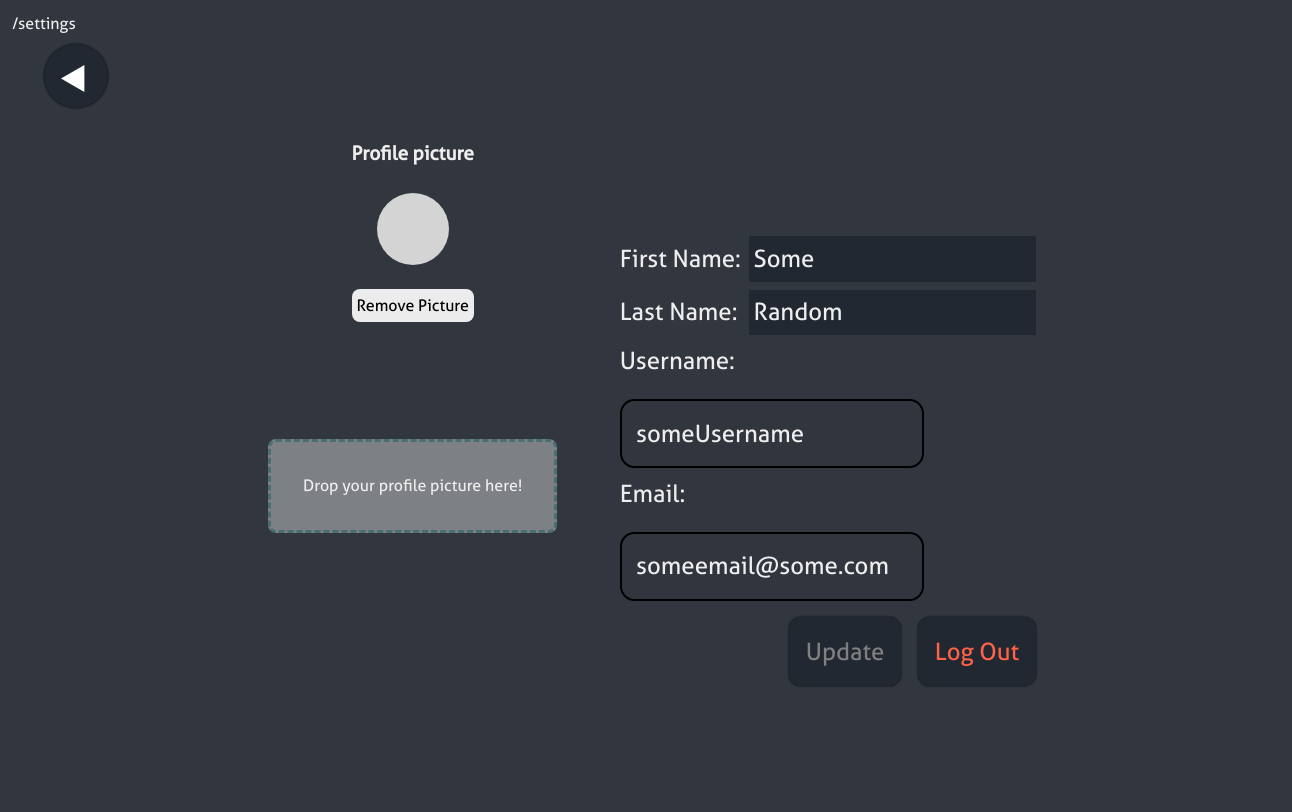
Test: <Settings> › validation › validates email
Click the field named "Email input" at (772, 566), box 620,532 -> 924,601
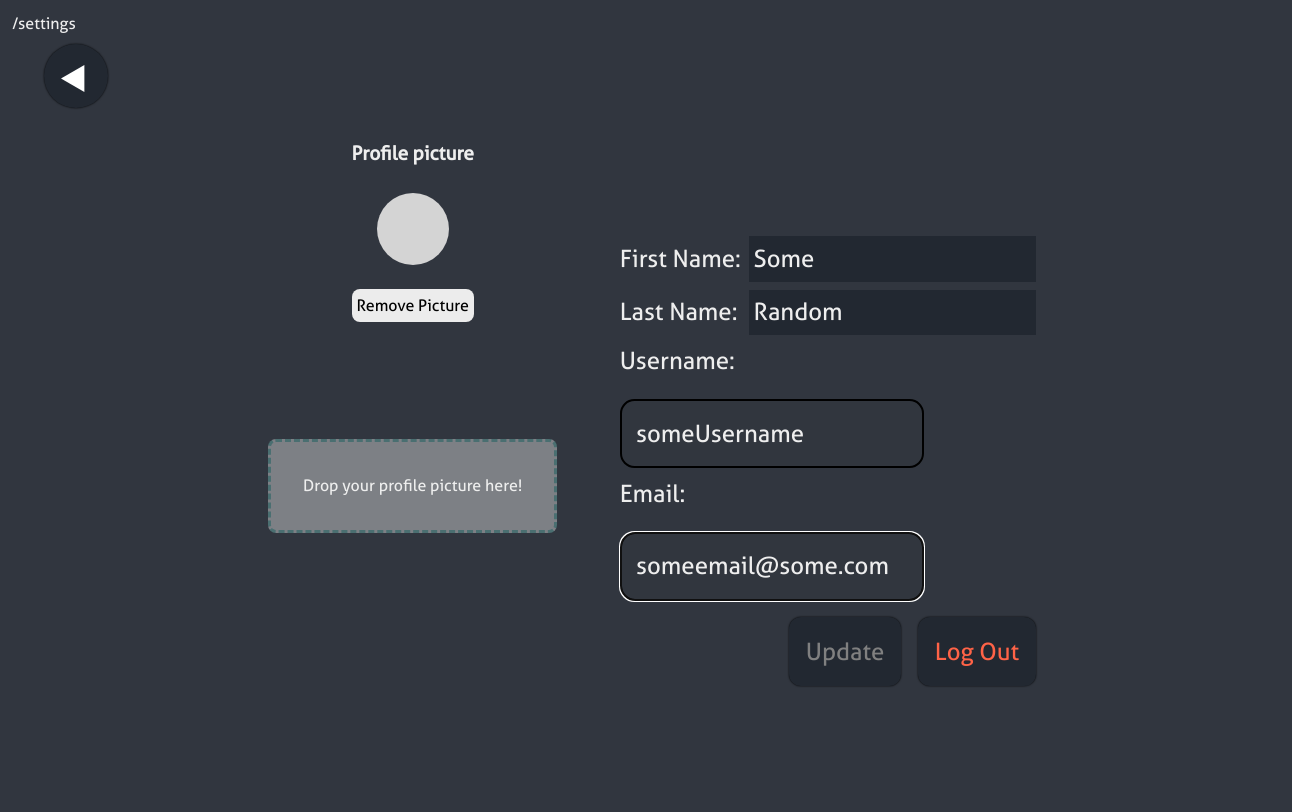
Press Backspace Backspace Backspace {Backsp
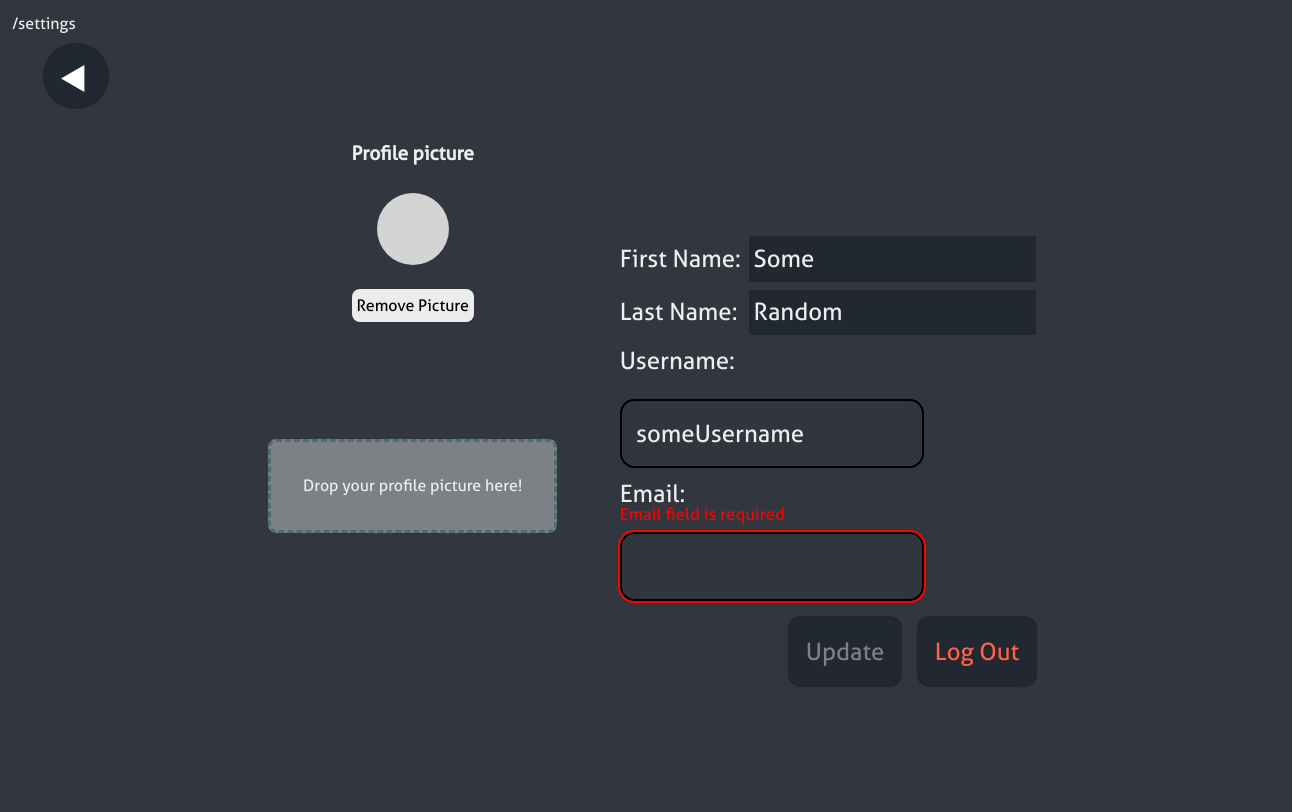
Expected: the text named "Email input error" reads "Email field is required", 620,504 -> 785,525
Type keys "invalidEmail"
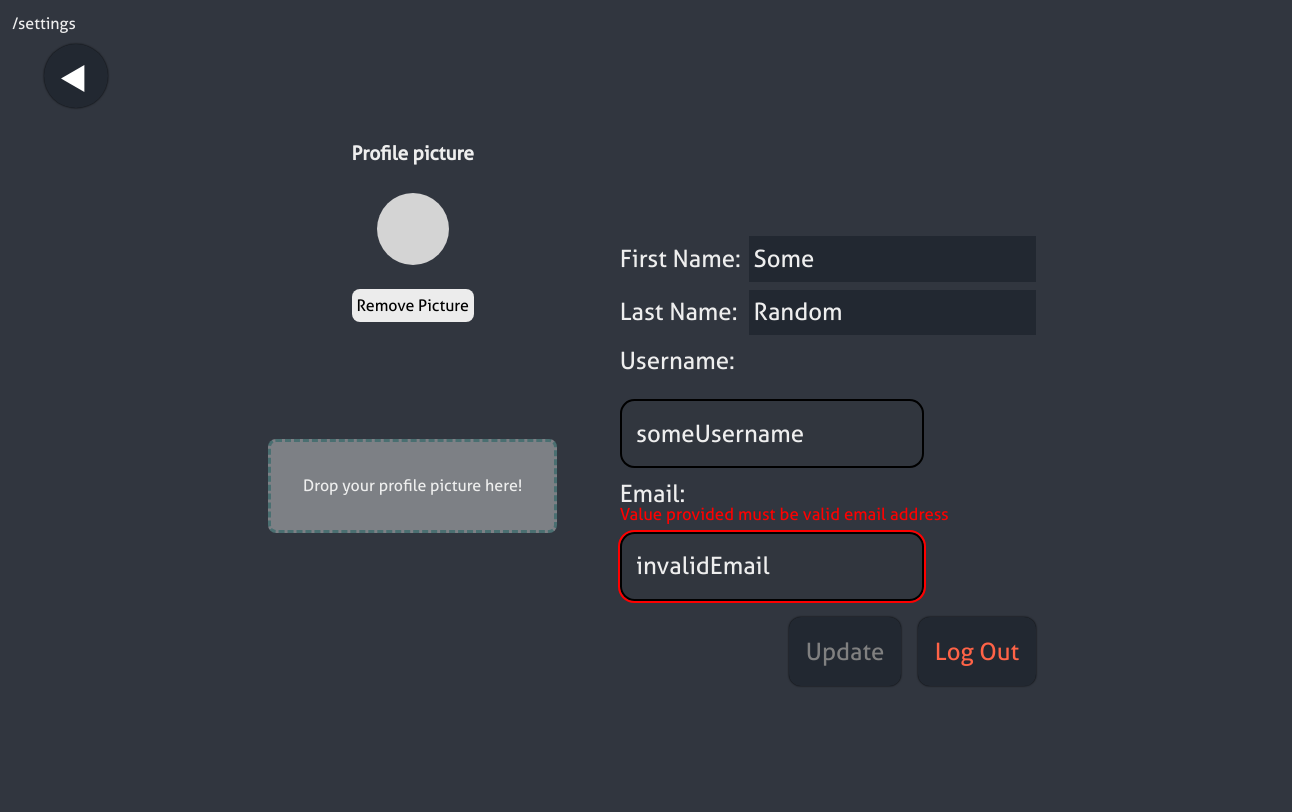
Expected: the text named "Email input error" reads "Value provided must be valid email address", 620,504 -> 949,525
